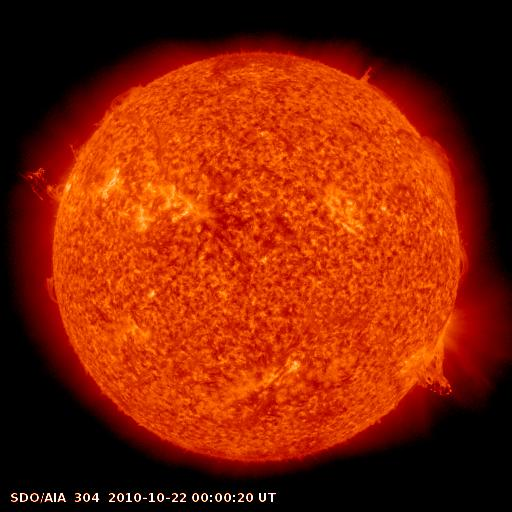prominence: (418, 128, 470, 216), (6, 156, 80, 215), (397, 328, 456, 401), (88, 75, 149, 133), (442, 232, 486, 296), (29, 263, 73, 312), (348, 54, 386, 93)
